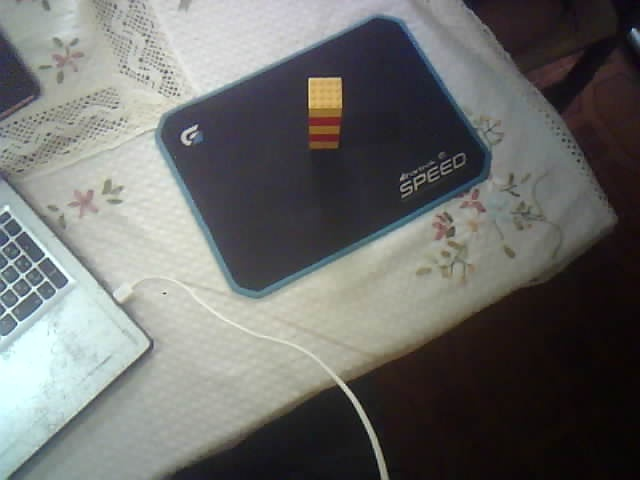lego: (305, 75, 343, 151)
